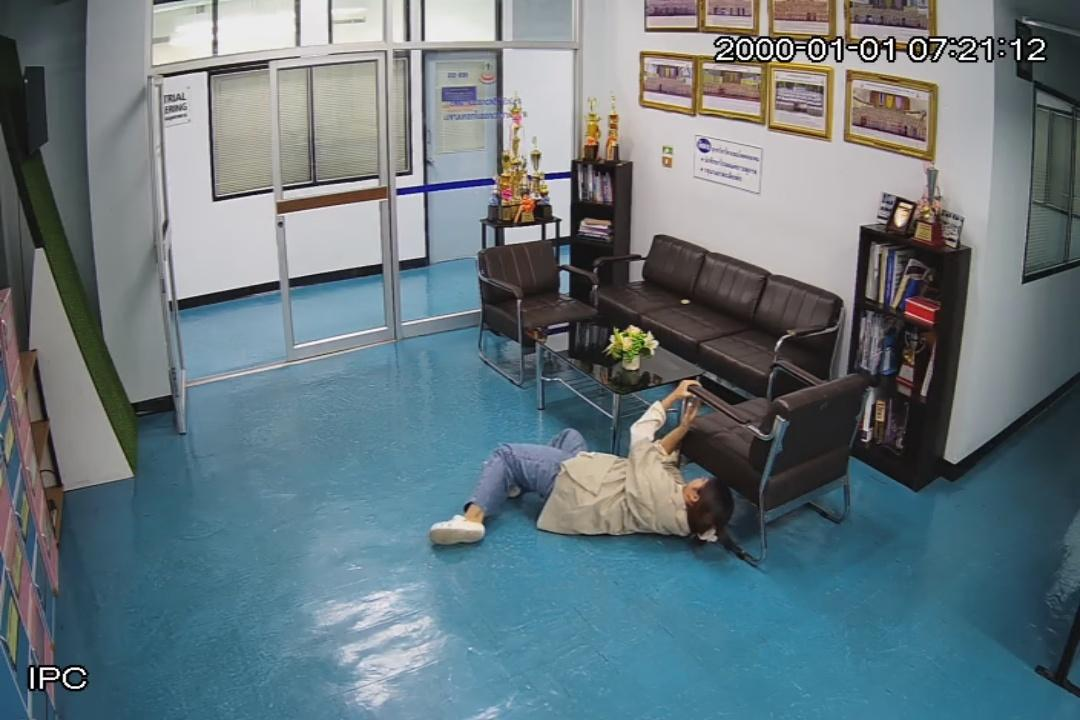fall: (432, 380, 740, 574)
